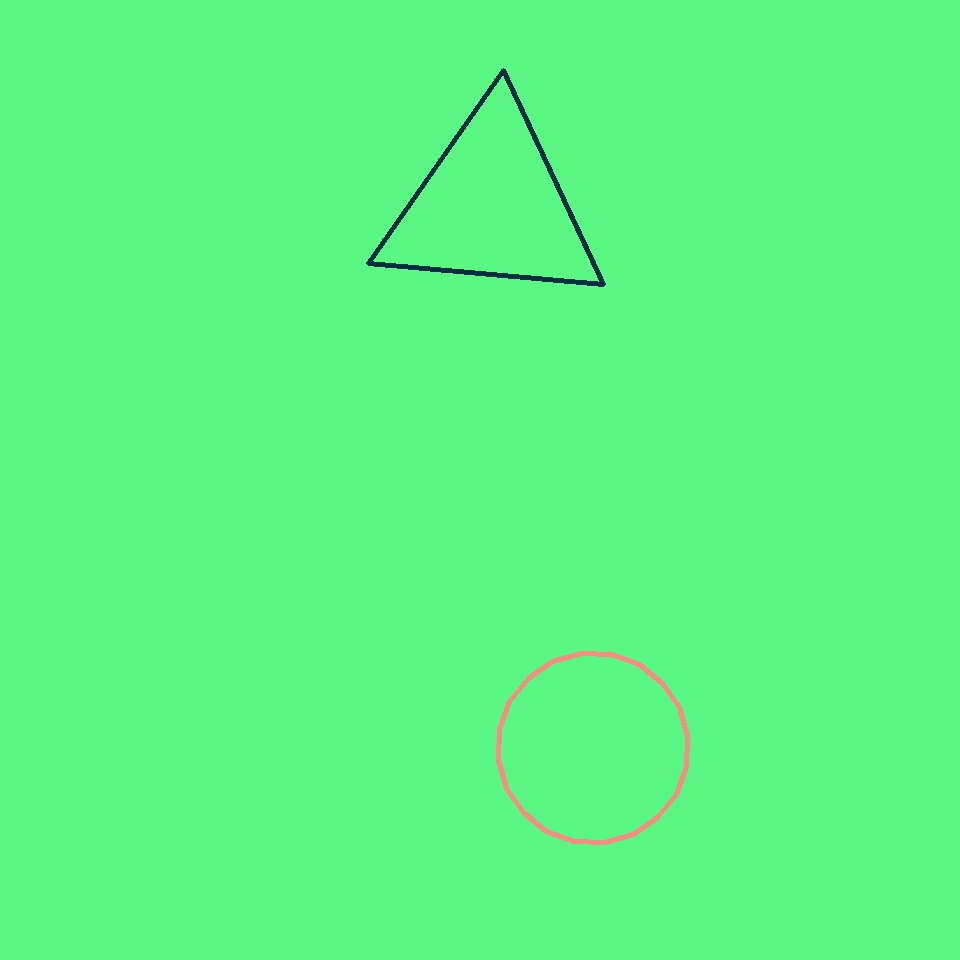circle: (374, 99, 610, 313)
triangle: (498, 654, 687, 842)
